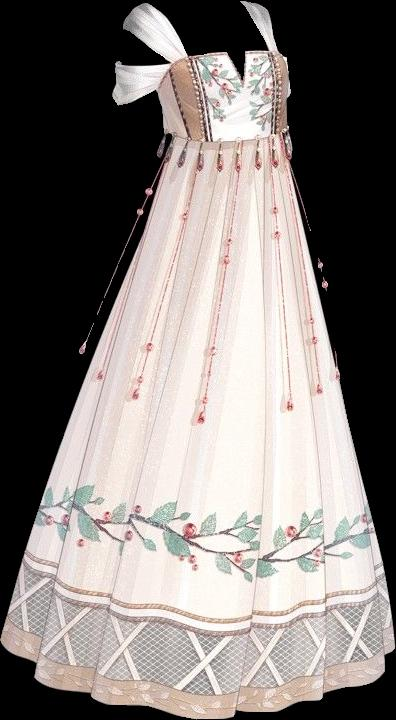Bodice: (123, 0, 290, 146)
Hemline: (0, 633, 395, 719)
Neckline: (141, 0, 271, 84)
Skirt: (0, 137, 394, 718)
Sleeve: (112, 61, 170, 105)
Sleeveline: (152, 63, 171, 90)
Waistline: (171, 131, 288, 153)
